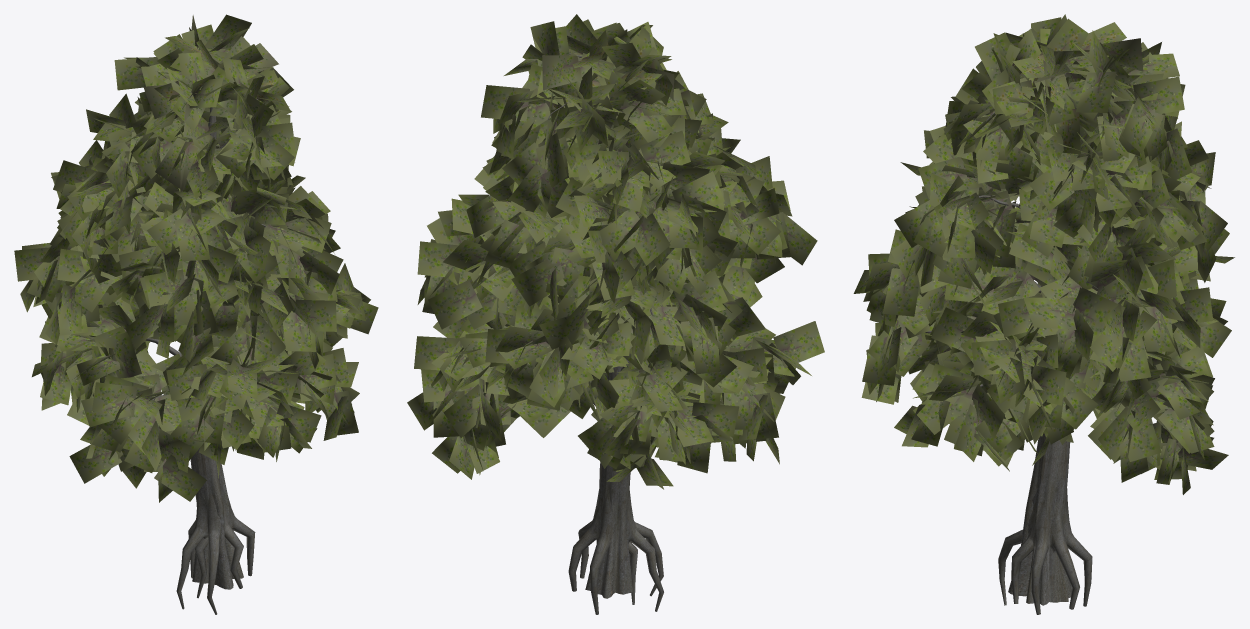
File: Linden.fbx
3 views of the same model, side by side, from view 1: azimuth 30°, elevation 25°; view 2: azimuth 150°, elevation 25°; view 3: azimuth 270°, elevation 25° (orthographic). The views are drawn at different scales.
Parts seen in each view (by area): view 1: Linden_LOD1; view 2: Linden_LOD1; view 3: Linden_LOD1.
Part boxes in pixels (x1,y1,x2,y2): Linden_LOD1: (14, 14, 378, 614); Linden_LOD1: (407, 14, 824, 614); Linden_LOD1: (853, 14, 1234, 614).
Size of the model in its own units: 1046 by 1075 by 1820.
